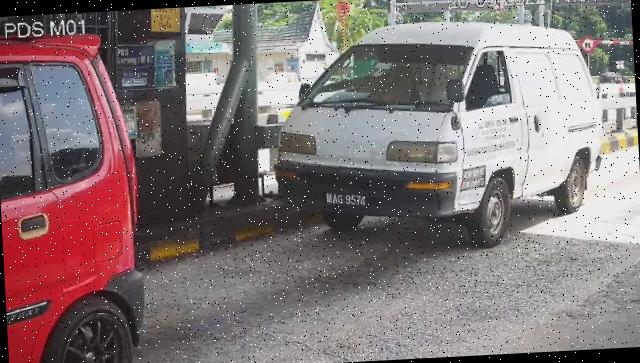License_Plate: (322, 187, 373, 216)
van: (271, 15, 611, 258)
